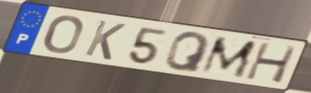5: (128, 26, 171, 66)
H: (243, 41, 300, 85)
K: (82, 18, 129, 62)
M: (198, 36, 260, 80)
O: (42, 14, 85, 54)
Q: (163, 31, 212, 75)
